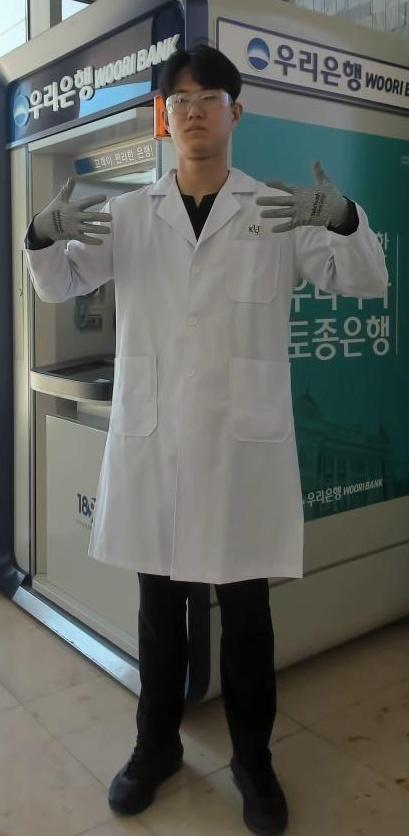lab_coat: (112, 177, 292, 570)
